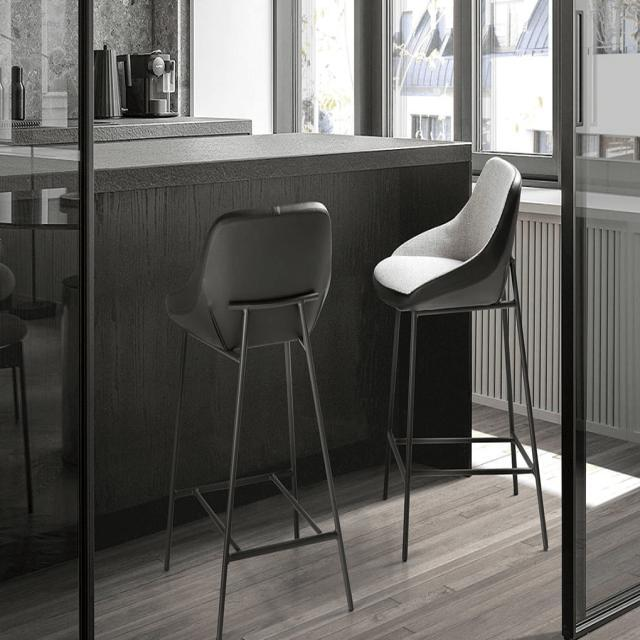chair: (163, 197, 354, 640), (370, 153, 548, 563), (156, 188, 342, 358), (358, 150, 524, 328)
